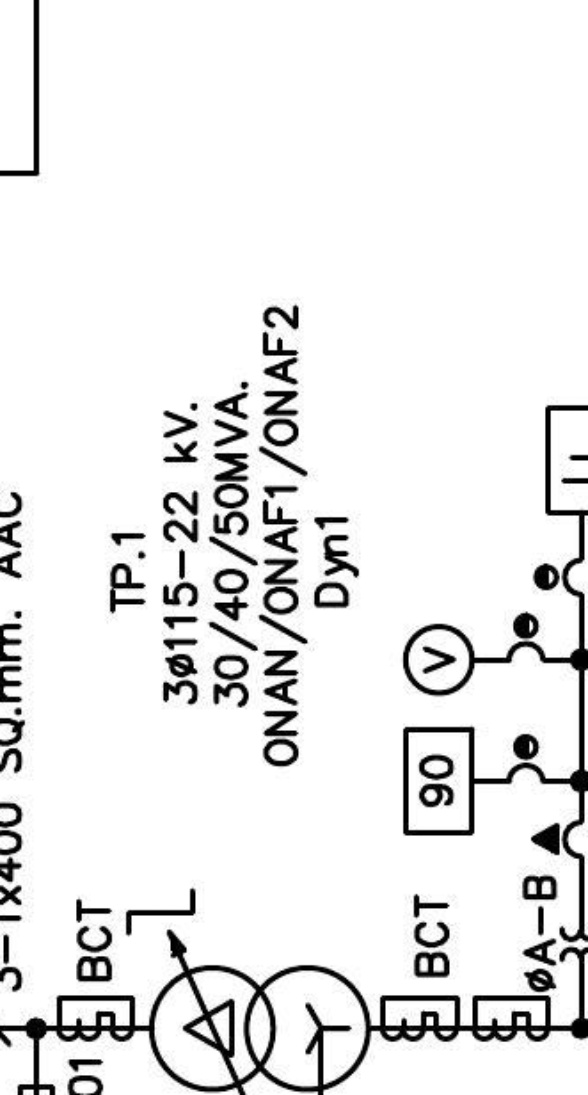11522_tx_dyn1: (148, 964, 373, 1094)
v_m: (401, 622, 476, 698)
